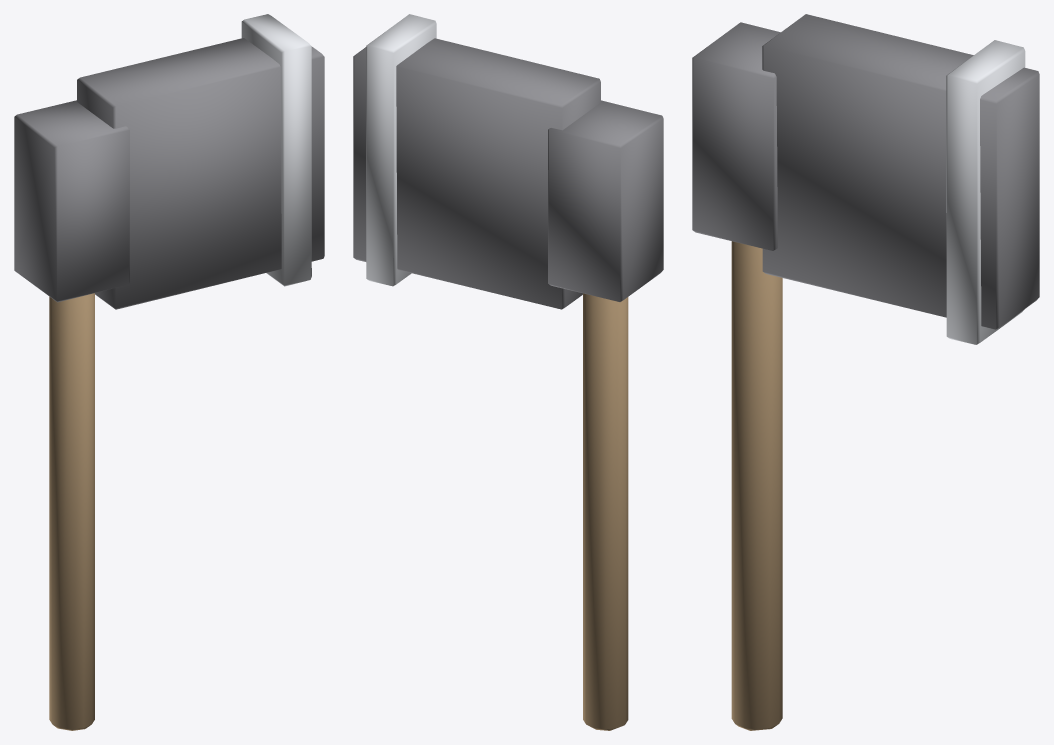
The model's file is item_axe.glb.
The picture shows the model from 3 angles, left to right: view 1: azimuth 30°, elevation 25°; view 2: azimuth 150°, elevation 25°; view 3: azimuth 330°, elevation 25°; orthographic projection. The views are drawn at different scales.
Visible parts, largest first — view 1: item_axe; view 2: item_axe; view 3: item_axe.
Boxes of the visible parts, x1,y1,x2,y2 form: item_axe: (14, 14, 324, 730); item_axe: (353, 14, 663, 730); item_axe: (692, 14, 1039, 730).
Bounding box in the file's own units: 0.36 × 0.8101 × 0.0979.
